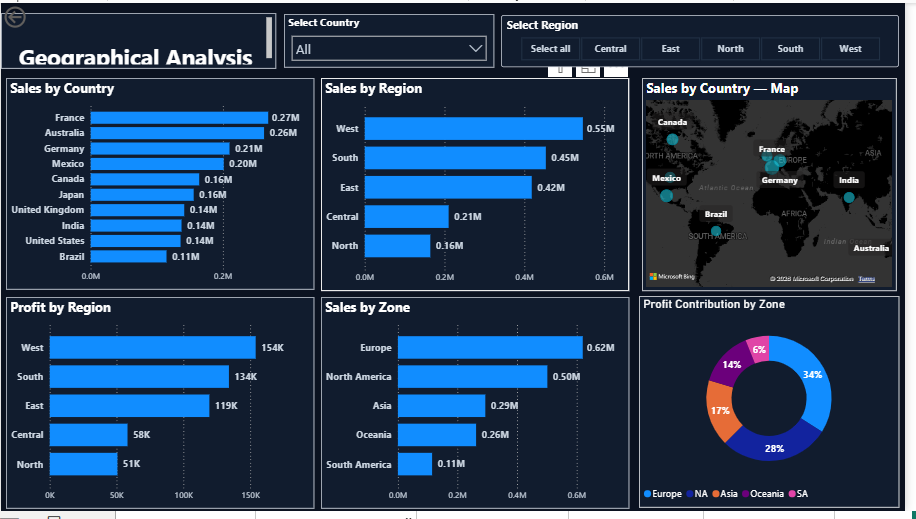

What the dashboard file says about the page in this screenshot:
{"tool":"powerbi","page":{"name":"Geographical Analysis","canvas":[1280,720],"ordinal":1},"visuals":[{"type":"textbox","box":[0,14.2,389.8,79.4],"z":0},{"type":"clusteredBarChart","title":"Sales by Country","fields":{"Category":["Dim_Geography.Country"],"Y":["ALL_DAX.Total Sales"]},"box":[7.1,106.3,436.5,300.5],"z":1000},{"type":"clusteredBarChart","title":"Sales by Region","fields":{"Y":["ALL_DAX.Total Sales"],"Category":["Dim_Geography.Region"]},"box":[453.5,106.3,436.5,301.9],"z":2000},{"type":"clusteredBarChart","title":"Profit by Region","fields":{"Category":["Dim_Geography.Region"],"Y":["ALL_DAX.Total Profit"]},"box":[7.1,416.7,436.5,300.5],"z":3000},{"type":"clusteredBarChart","title":"Sales by Zone","fields":{"Y":["ALL_DAX.Total Sales"],"Category":["Dim_Geography.Zone"]},"box":[453.5,416.7,436.5,300.5],"z":4000},{"type":"slicer","title":"Select Country","fields":{"Values":["Dim_Geography.Country"]},"box":[401.8,15.8,298.1,76.3],"z":5000},{"type":"slicer","title":"Select Region","fields":{"Values":["Dim_Geography.Region"]},"box":[708.7,17,564.1,73.7],"z":6000},{"type":"map","title":"Sales by Country — Map","fields":{"Category":["Dim_Geography.Country"],"Size":["ALL_DAX.Total Sales"]},"box":[908.5,106.3,361.4,301.9],"z":7000},{"type":"actionButton","box":[0,0,100,40],"z":8000},{"type":"donutChart","title":"Profit Contribution by Zone","fields":{"Y":["ALL_DAX.Total Profit"],"Category":["Dim_Geography.Zone Short Name"]},"box":[904.3,415.3,368.5,300.5],"z":9000}]}

Visuals, with their boxes in screenshot pixels (x1, y1, x2, y2), scaled from the page's 1280x720 canvas onto the 916x519 screenshot:
textbox: <region>0, 10, 279, 67</region>
"Sales by Country" clusteredBarChart: <region>5, 77, 317, 293</region>
"Sales by Region" clusteredBarChart: <region>325, 77, 637, 294</region>
"Profit by Region" clusteredBarChart: <region>5, 300, 317, 517</region>
"Sales by Zone" clusteredBarChart: <region>325, 300, 637, 517</region>
"Select Country" slicer: <region>288, 11, 501, 66</region>
"Select Region" slicer: <region>507, 12, 911, 65</region>
"Sales by Country — Map" map: <region>650, 77, 909, 294</region>
actionButton: <region>0, 0, 72, 29</region>
"Profit Contribution by Zone" donutChart: <region>647, 299, 911, 516</region>
